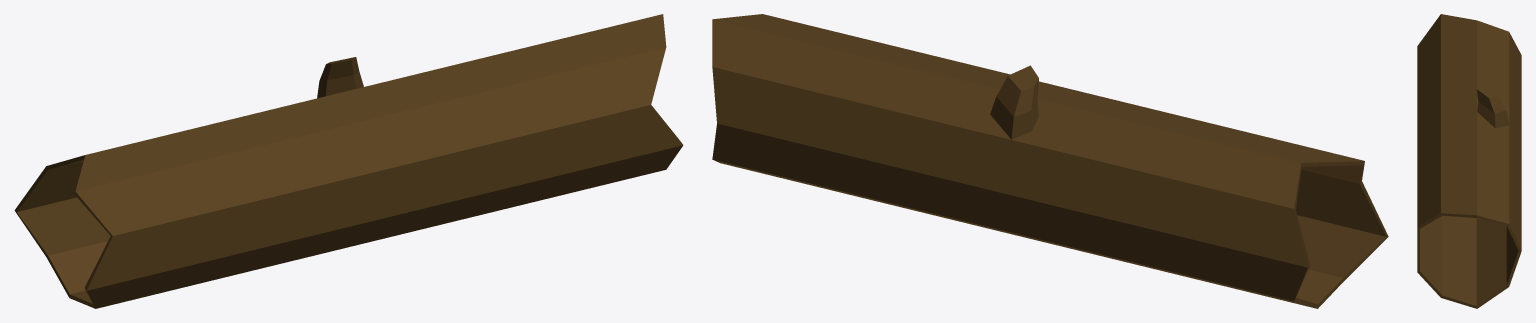
Rendered from stammGebrochen.fbx.
The picture shows the model from 3 angles, left to right: view 1: azimuth 30°, elevation 25°; view 2: azimuth 150°, elevation 25°; view 3: azimuth 270°, elevation 25°; orthographic projection. The views are drawn at different scales.
Visible parts, largest first — view 1: Cylinder; view 2: Cylinder; view 3: Cylinder.
Boxes of the visible parts, left/top/right/bottom form: Cylinder: left=14, top=14, right=683, bottom=308; Cylinder: left=712, top=14, right=1388, bottom=308; Cylinder: left=1417, top=14, right=1521, bottom=308.
Size of the model in its own units: 918 by 240 by 194.
